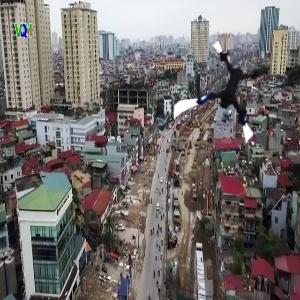drone: (180, 52, 277, 149)
